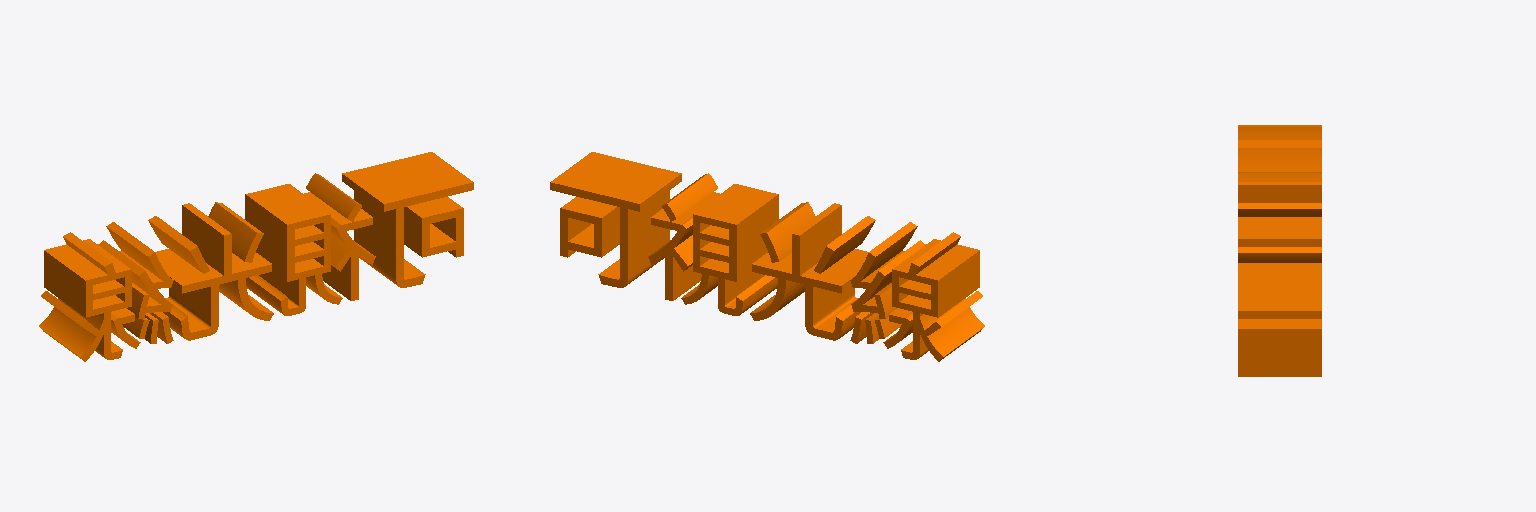
The picture shows the model from 3 angles: view 1: azimuth 30°, elevation 25°; view 2: azimuth 150°, elevation 25°; view 3: azimuth 270°, elevation 25°; orthographic projection.
Visible parts, largest first — view 1: テキスト; view 2: テキスト; view 3: テキスト.
Part boxes in pixels (bbox=[...]): テキスト: bbox=[39, 152, 473, 361]; テキスト: bbox=[550, 152, 984, 361]; テキスト: bbox=[1238, 125, 1321, 376].
Size of the model in its own units: 3.91 by 0.925 by 0.72.
Materials: 1 (1 with a texture image).